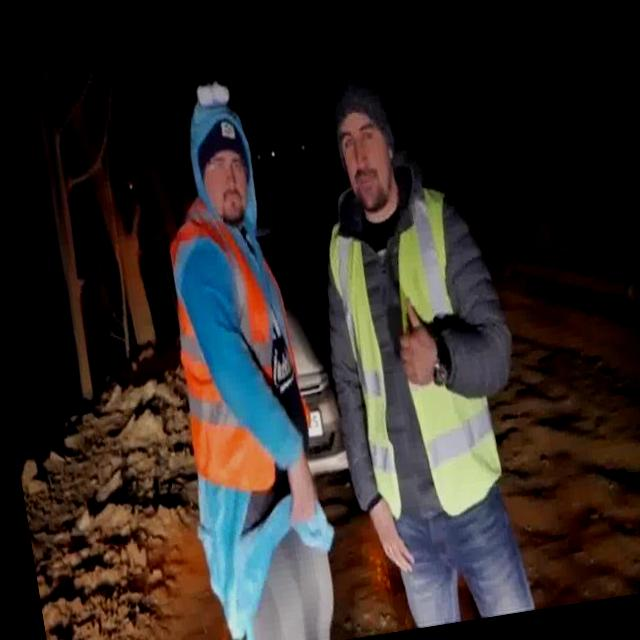vest: (320, 183, 504, 532), (154, 188, 322, 507)
